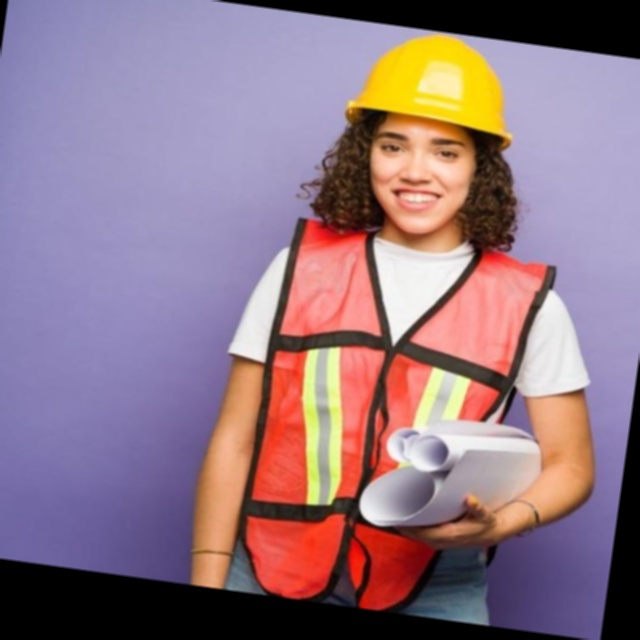Con_Casco: (333, 23, 528, 247)
Con_Chaleco: (235, 214, 563, 598)
